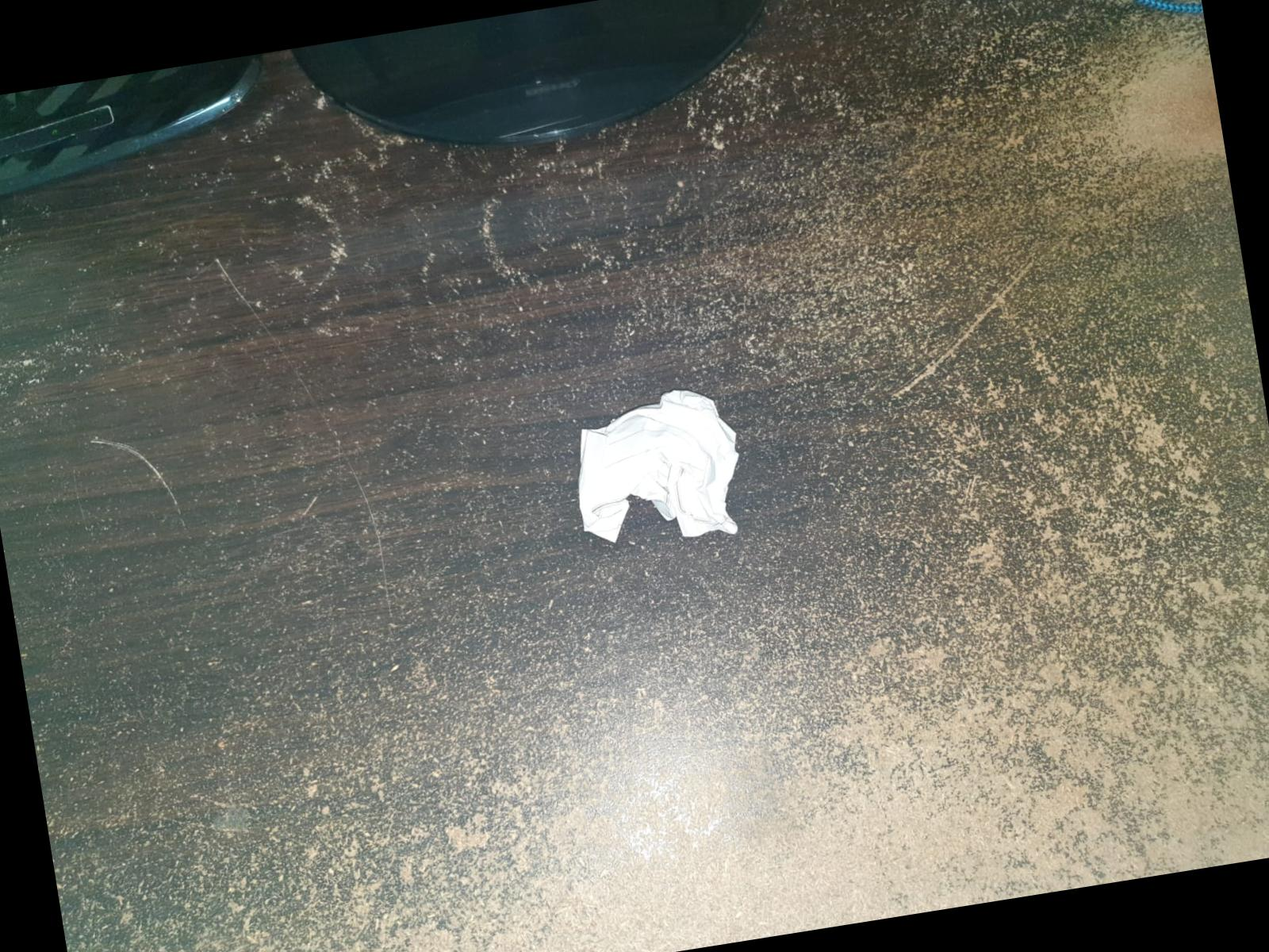Kertas: (577, 391, 738, 541)
